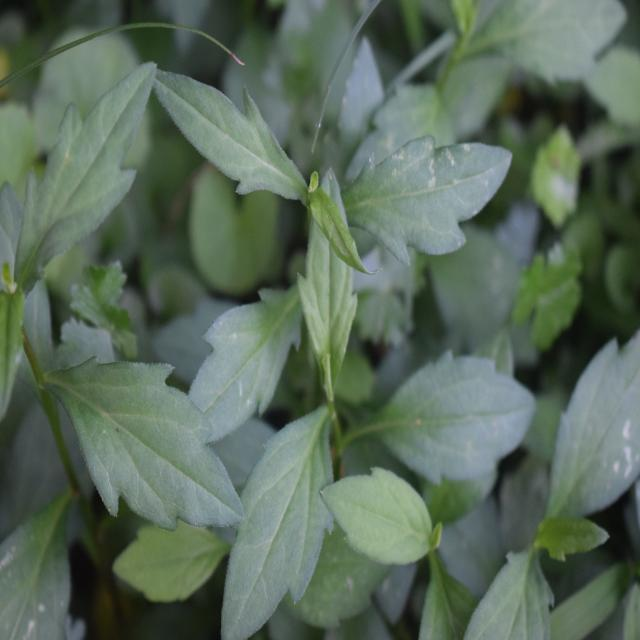Indian aster: (0, 80, 238, 578), (208, 249, 503, 601), (157, 68, 516, 269)
